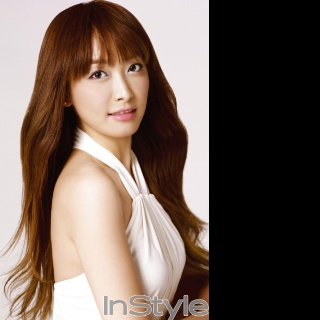without_mask: (70, 33, 150, 137)
